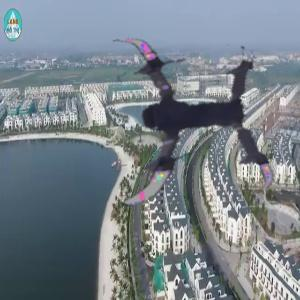drone: (81, 23, 275, 217)
